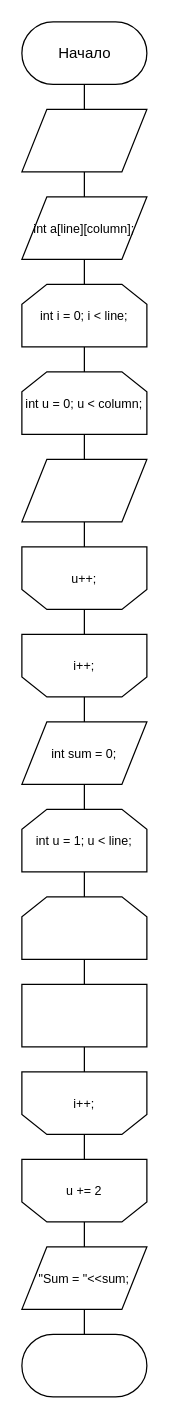
Some shapes in this 169 by 1419 pixel diagram are drawn without their labels. Each missing label, with the centre of its shape:
"cin >> a[i][u];" goes at point 84,490.
"const int line=3; const int column=2;" goes at point 84,140.
"int i = 0; i < column;" goes at point 84,927.
"sum += a[u][i];" goes at point 84,1015.
"Конец" goes at point 84,1365.
